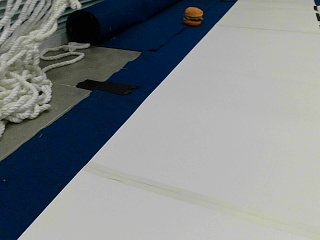burger: (183, 5, 204, 25)
